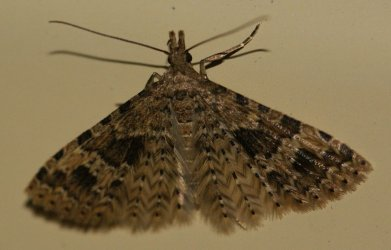Alucitidae: (11, 17, 375, 235)
moth: (9, 15, 373, 233)
